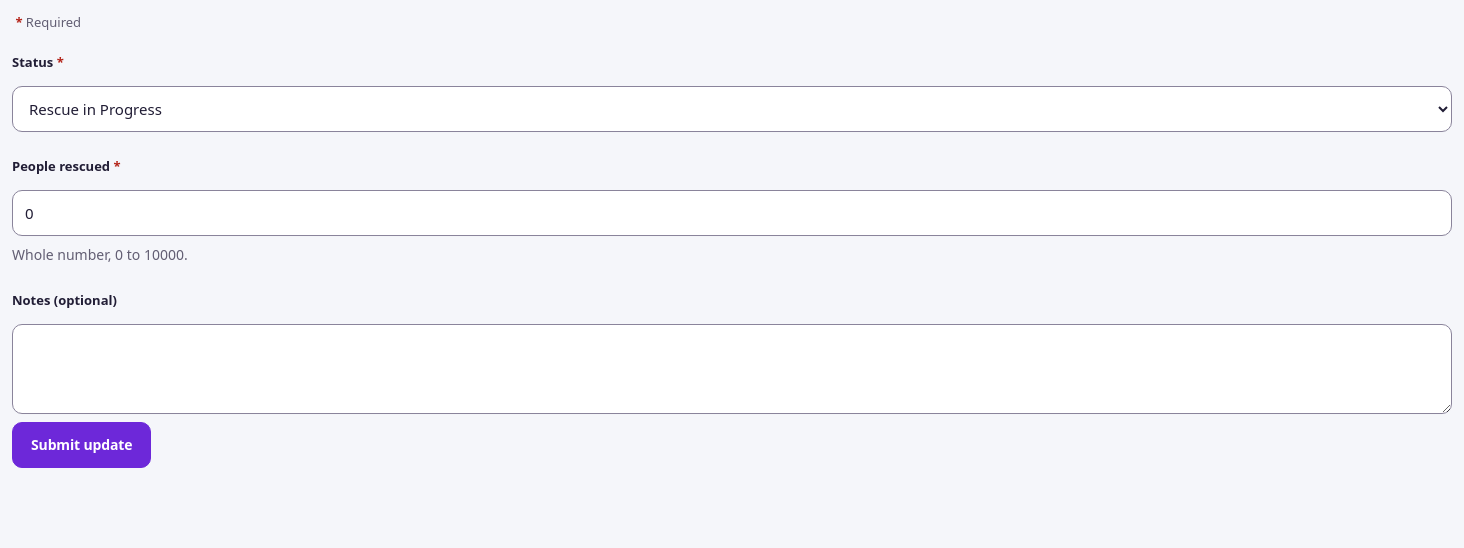
Test: OperationForm › keeps focus and blocks repeat posts, then clears saved feedback when a new draft starts
Click the button "Submit update" at (82, 445), box top-left (12, 422), bottom-right (151, 468)
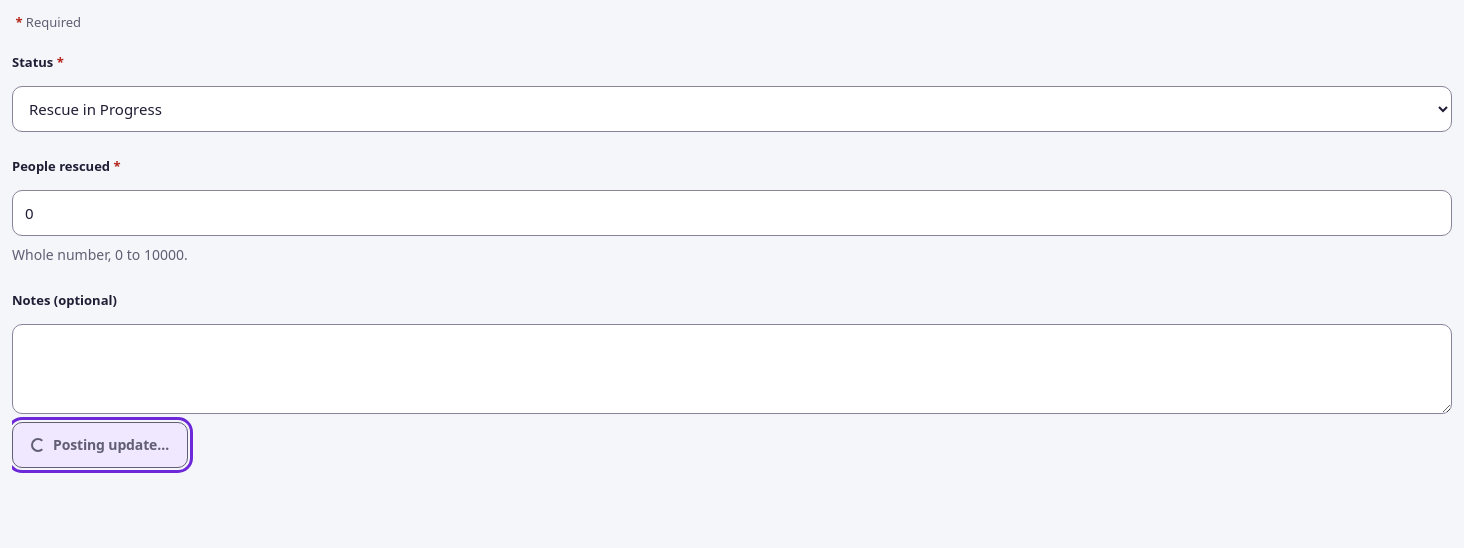
Click the button "Posting update…" at (100, 445), box top-left (12, 422), bottom-right (188, 468)
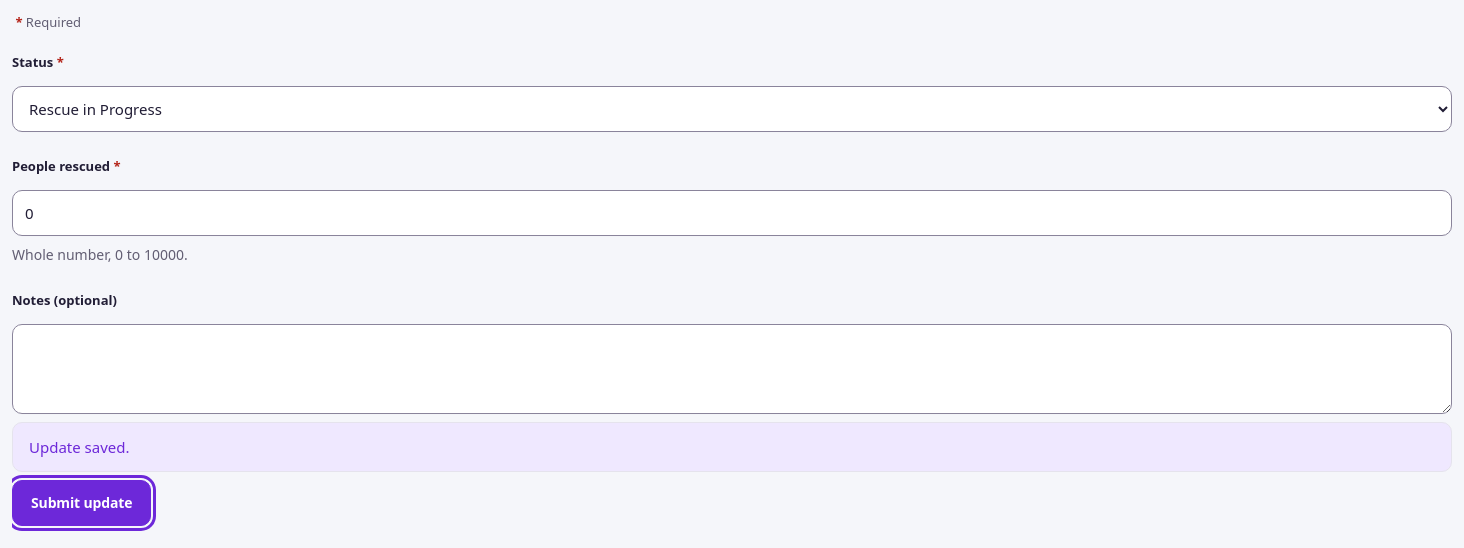
Now the message reads "Update saved.", box top-left (29, 437), bottom-right (130, 457)
Type "New draft" into the text box labelled "Notes (optional)" at (732, 369), box top-left (12, 324), bottom-right (1452, 414)
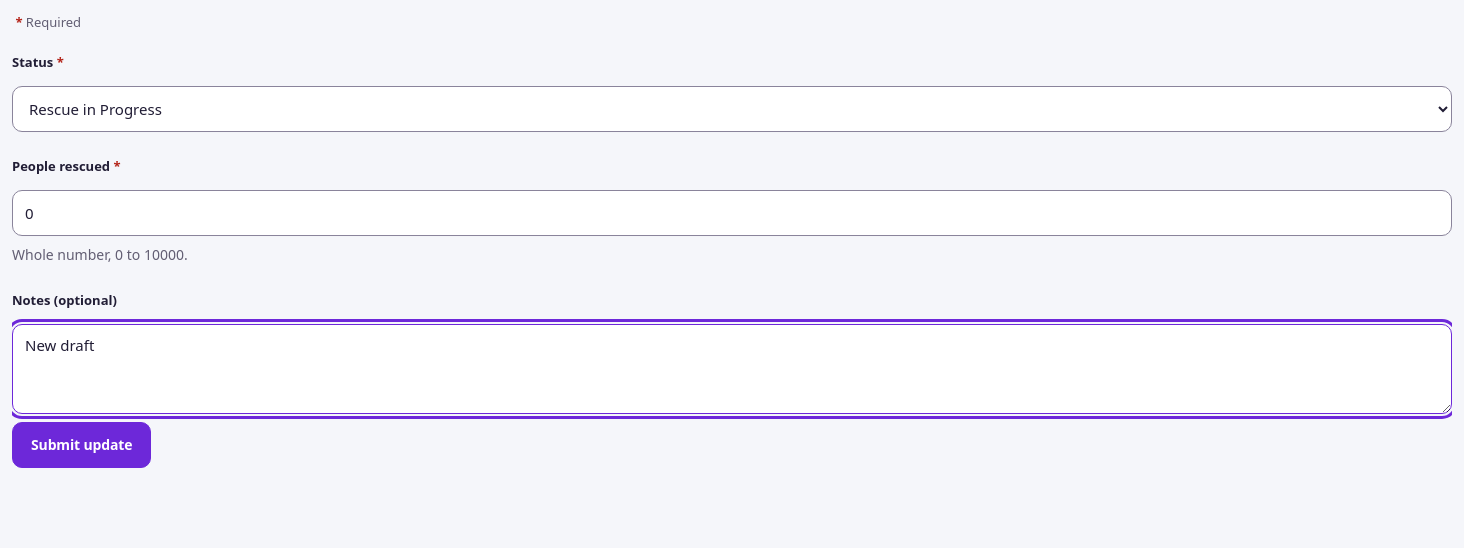
Now the text "Update saved." is gone
